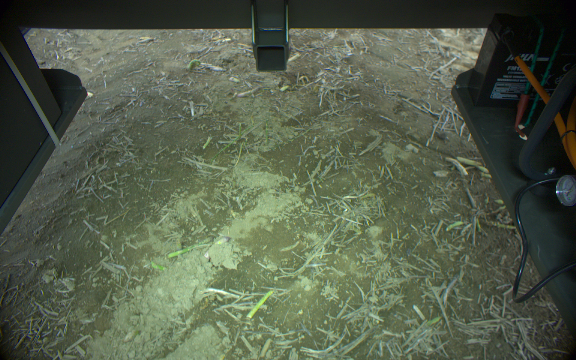aspa: (167, 233, 231, 267), (245, 289, 276, 322)
